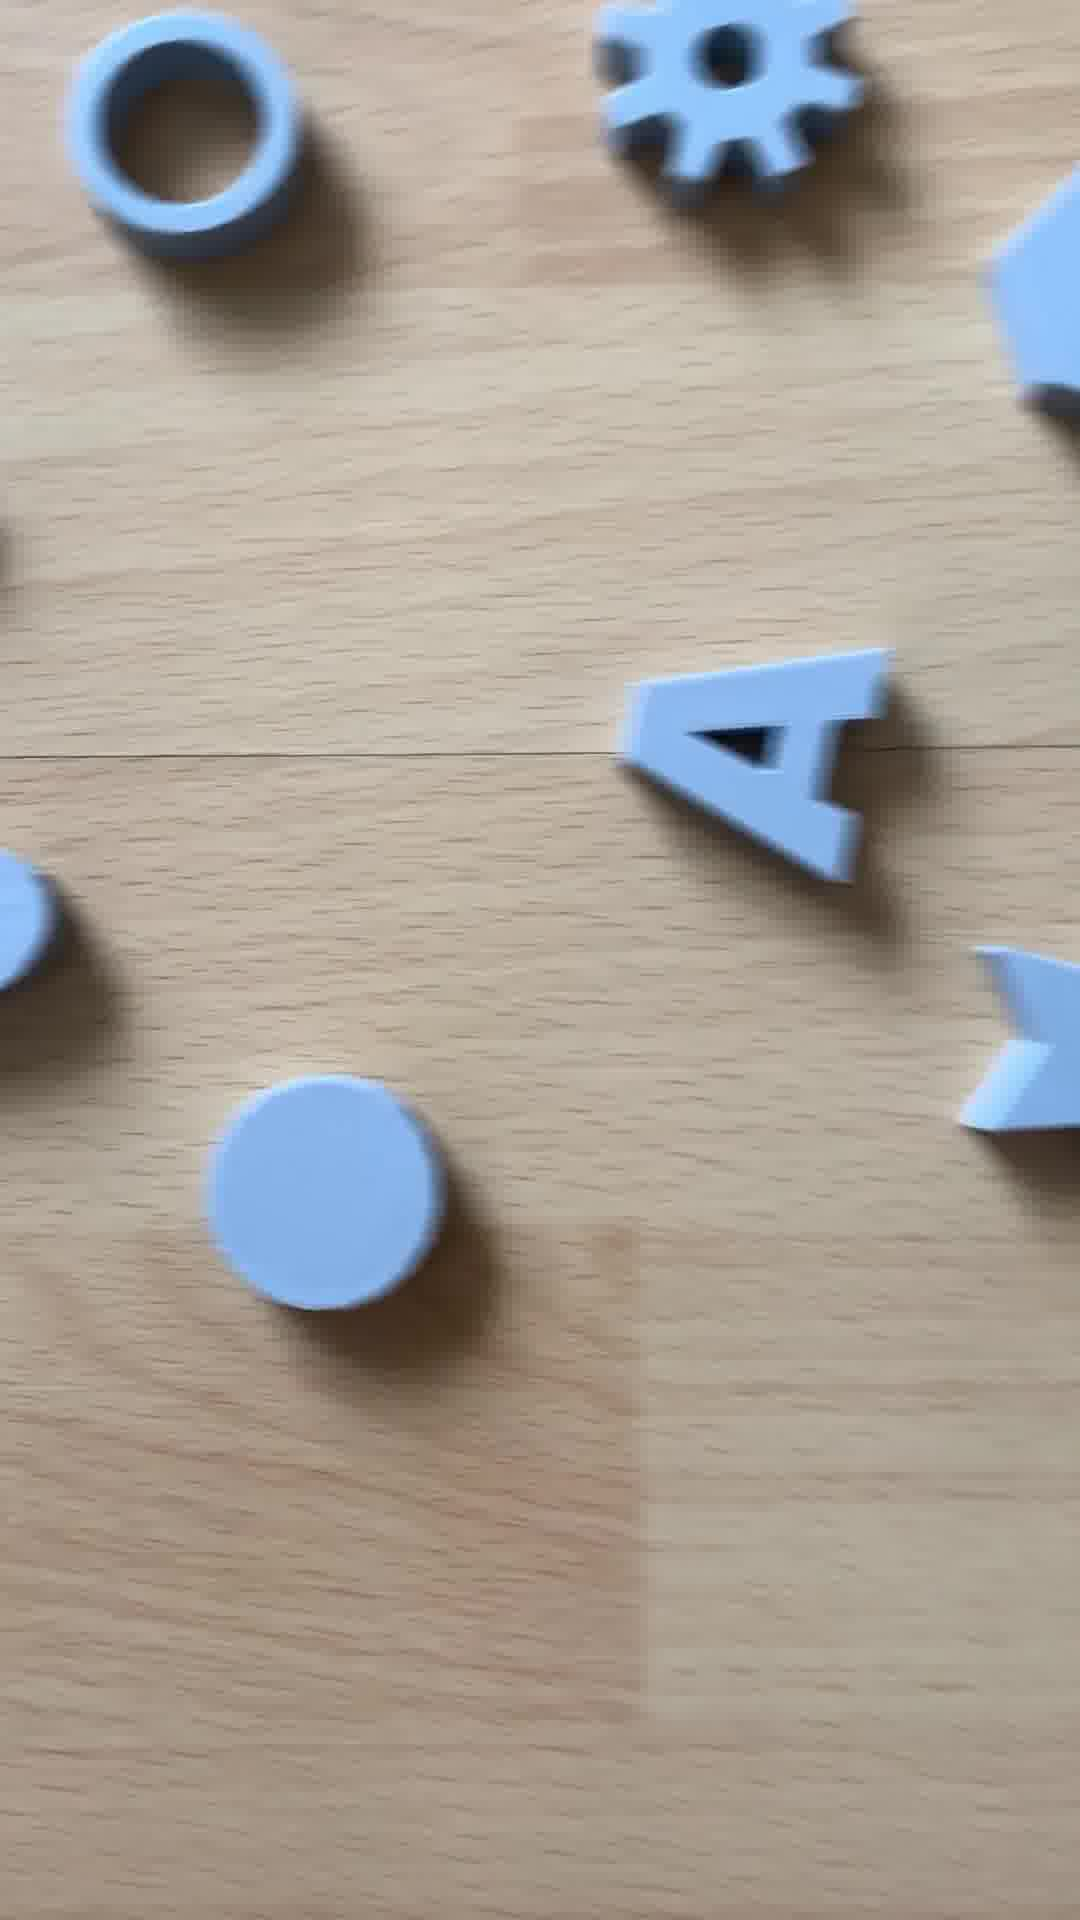Gray A-letter: (585, 624, 906, 906)
Gray circle: (196, 1073, 444, 1324)
Gray gear: (592, 1, 876, 216)
Gray ring: (55, 11, 307, 257)
Gray star: (951, 916, 1080, 1197)
